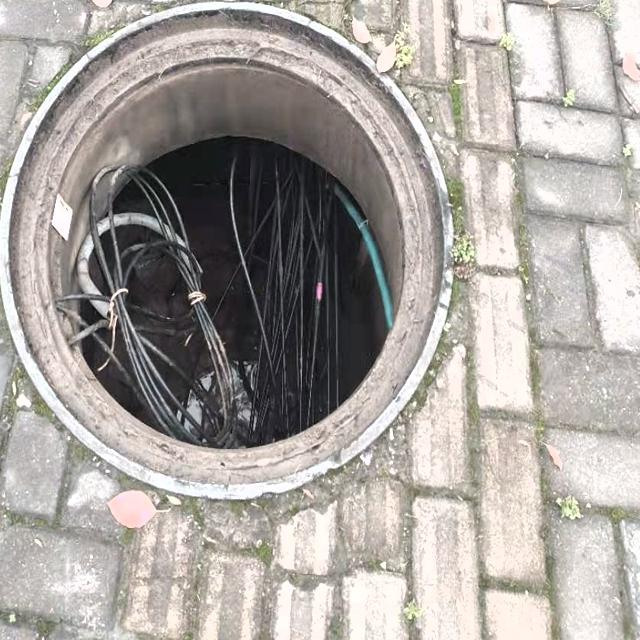lose: (0, 0, 450, 505)
